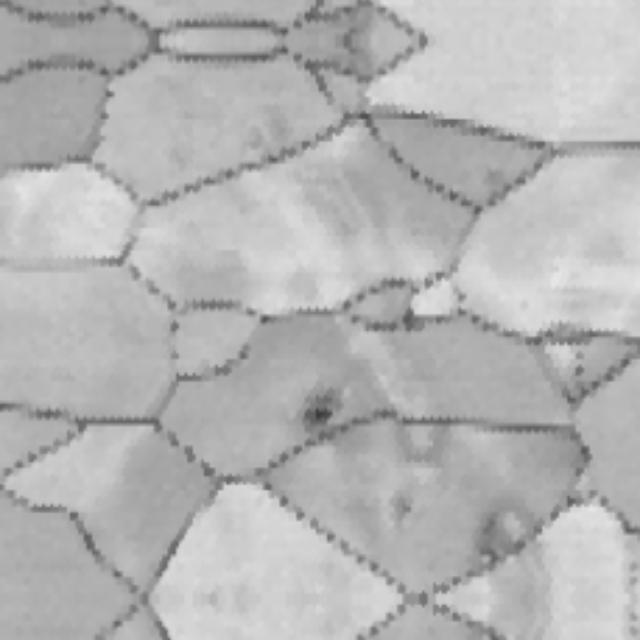good_void: (475, 496, 562, 600), (480, 600, 562, 640), (365, 483, 422, 525), (291, 395, 341, 438), (573, 366, 583, 379), (573, 351, 582, 362)
